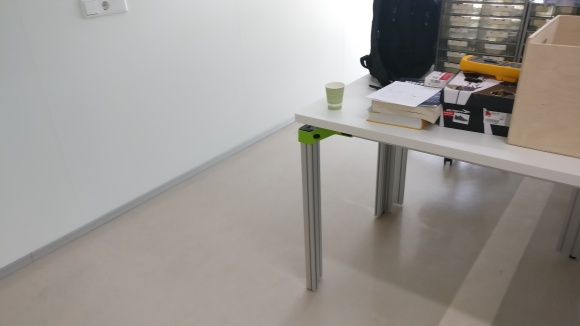cup: (323, 80, 346, 111)
